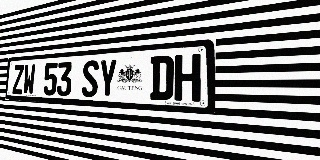3: (57, 62, 72, 96)
5: (43, 62, 58, 96)
D: (150, 55, 174, 101)
H: (174, 53, 201, 102)
S: (81, 60, 99, 97)
W: (23, 64, 36, 95)
Y: (98, 59, 117, 98)
Z: (12, 65, 24, 94)
